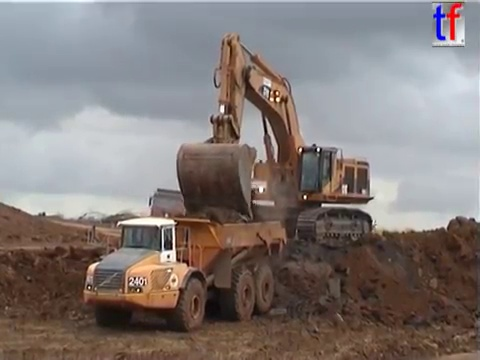excavator: (173, 29, 378, 250)
truck: (80, 214, 290, 333), (147, 187, 222, 231)
